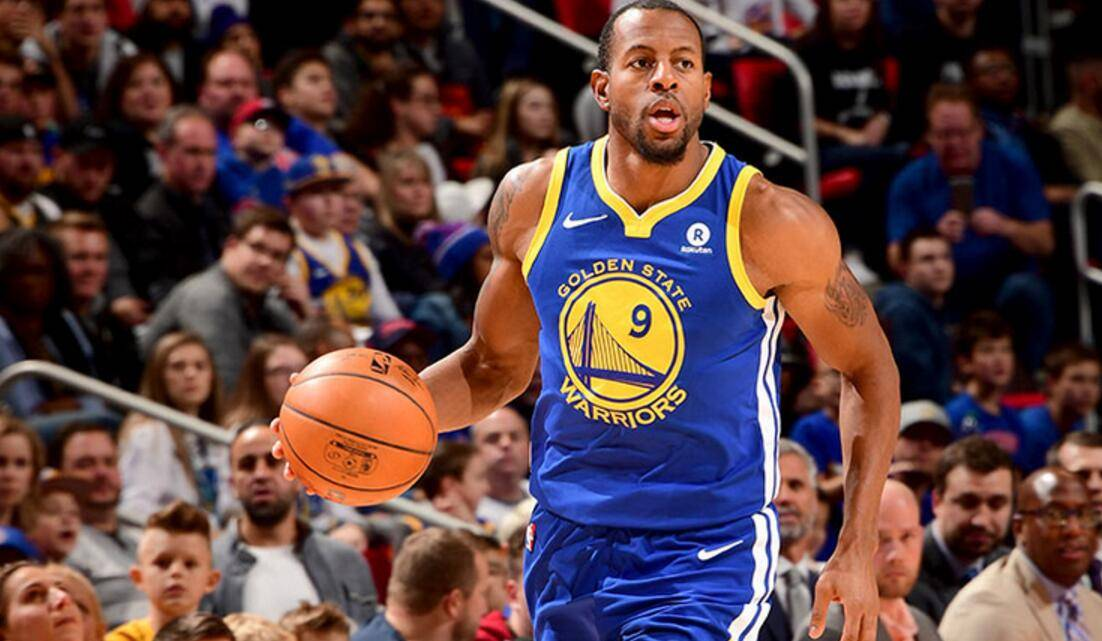ball: (278, 347, 437, 506)
